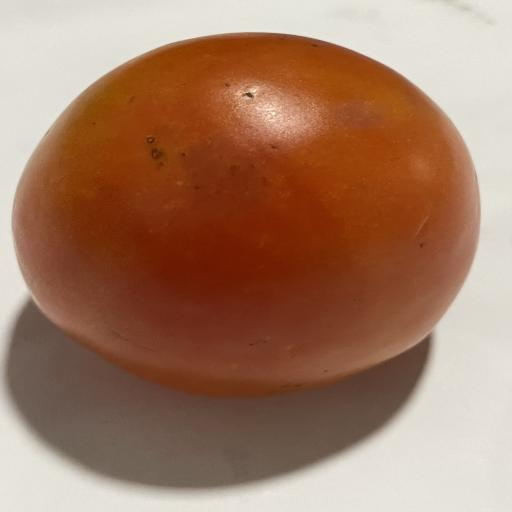ripe: (13, 33, 479, 396)
